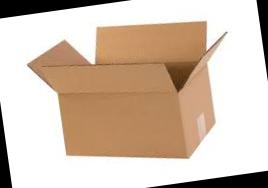cardboard: (15, 0, 249, 185)
